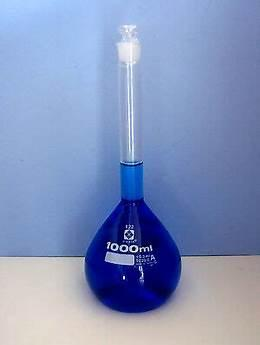Volumetric flask: (82, 13, 183, 310)
